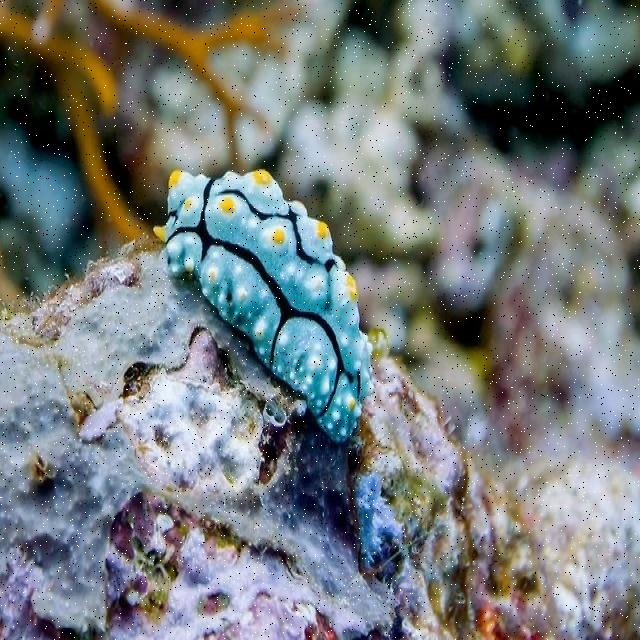reefs: (151, 166, 376, 439)
sea-floor: (0, 245, 639, 639)
